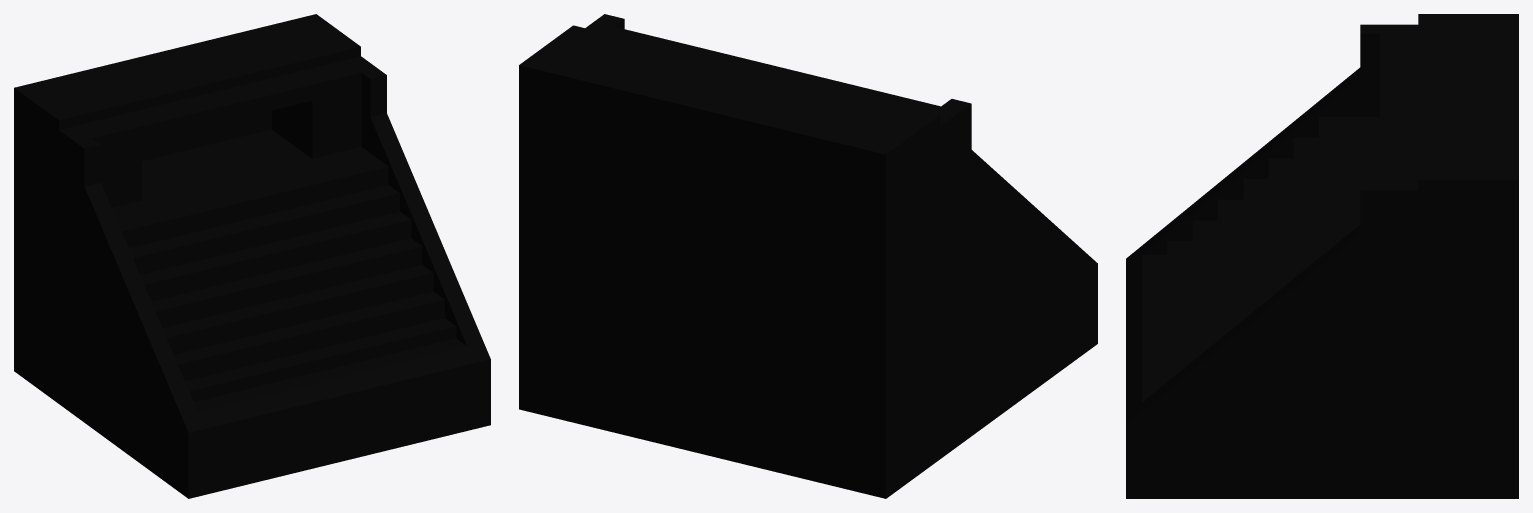
The model's file is grandStand.glb.
3 views of the same model, side by side, from view 1: azimuth 30°, elevation 25°; view 2: azimuth 150°, elevation 25°; view 3: azimuth 270°, elevation 25° (orthographic). The views are drawn at different scales.
Visible parts, largest first — view 1: Mesh grandStand; view 2: Mesh grandStand; view 3: Mesh grandStand.
Boxes of the visible parts, box(x1,y1,x2,y2) form: Mesh grandStand: box(14, 14, 490, 498); Mesh grandStand: box(519, 14, 1097, 498); Mesh grandStand: box(1126, 14, 1518, 498).
Bounding box in the file's own units: 1 × 0.8962 × 1.
Materials: 1 (1 with a texture image).
